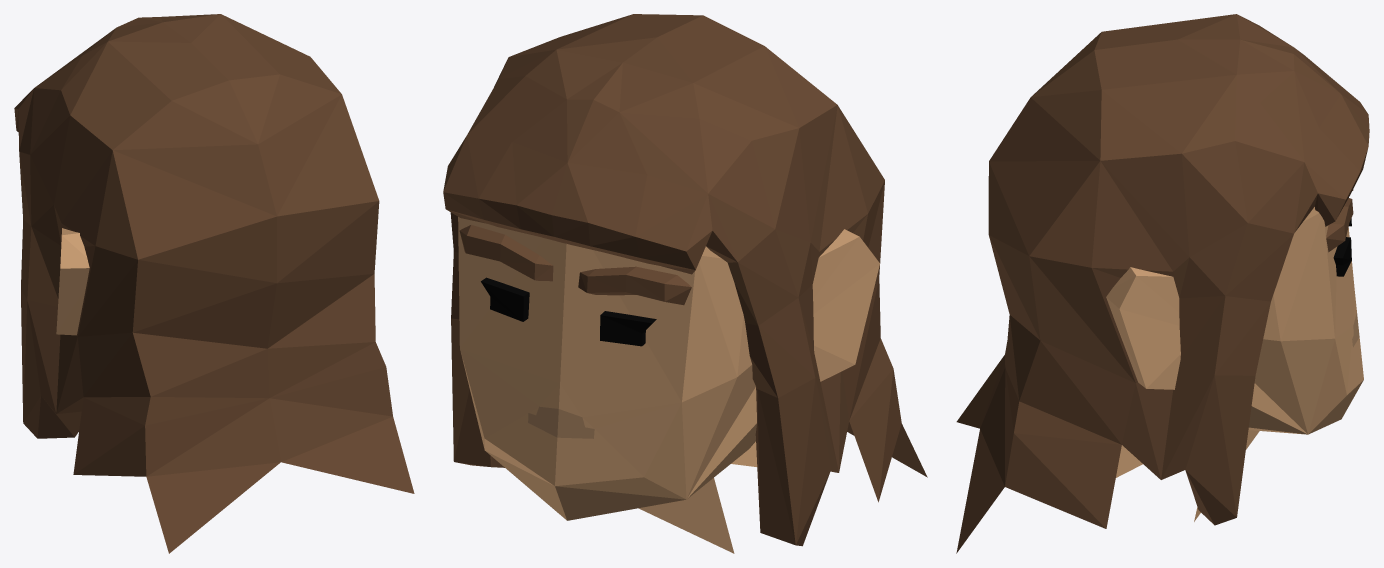
Rendered from Mother_02_02_B_Head.obj.
3 renders of one model, left to right at view 1: azimuth 30°, elevation 25°; view 2: azimuth 150°, elevation 25°; view 3: azimuth 270°, elevation 25°, orthographic. The views are drawn at different scales.
Parts seen in each view (by area): view 1: Mother_02_02_B_Head; view 2: Mother_02_02_B_Head; view 3: Mother_02_02_B_Head.
Boxes of the visible parts, x1,y1,x2,y2 form: Mother_02_02_B_Head: (14, 14, 414, 553); Mother_02_02_B_Head: (443, 14, 927, 553); Mother_02_02_B_Head: (956, 14, 1369, 553).
Bounding box in the file's own units: 0.2831 × 0.3499 × 0.2922.
1 material, 1 textured.
